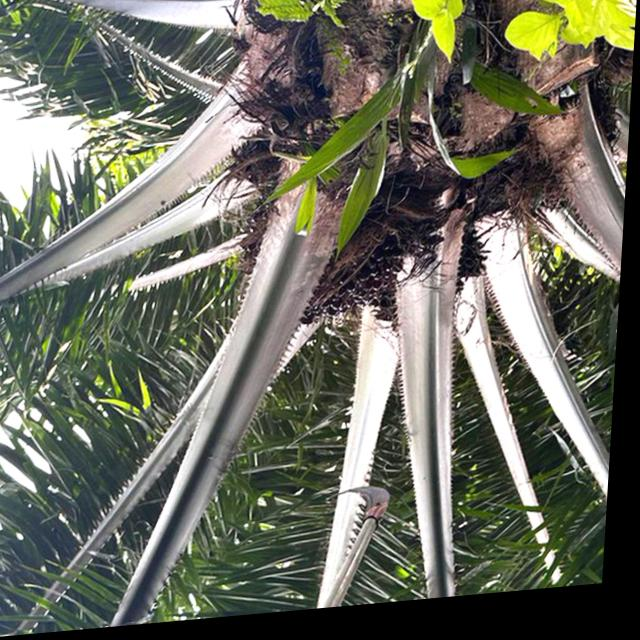unripe: (233, 196, 418, 338)
